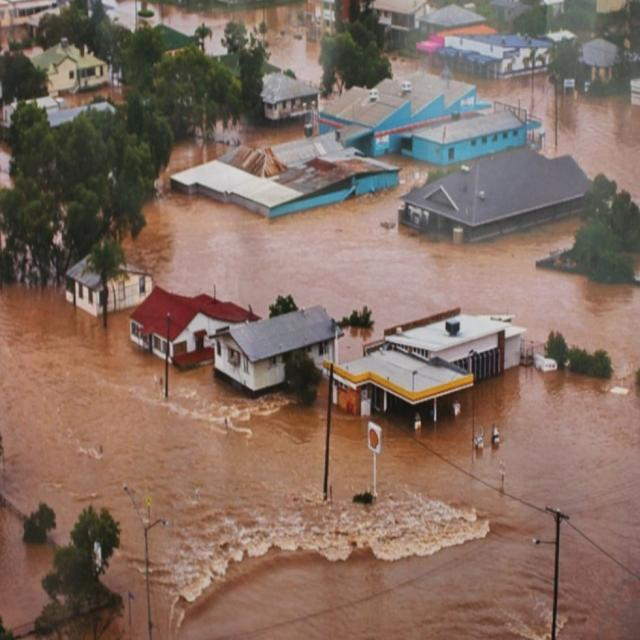flood: (125, 141, 640, 640), (0, 289, 325, 640), (155, 492, 490, 604), (471, 74, 640, 202), (149, 1, 323, 86), (334, 412, 372, 500)
house: (169, 133, 403, 222), (354, 312, 530, 412), (414, 148, 586, 246), (330, 334, 482, 442), (126, 279, 240, 373), (222, 306, 336, 398), (324, 70, 482, 125), (411, 104, 529, 166), (446, 29, 558, 79), (71, 258, 154, 320), (33, 36, 111, 92)
